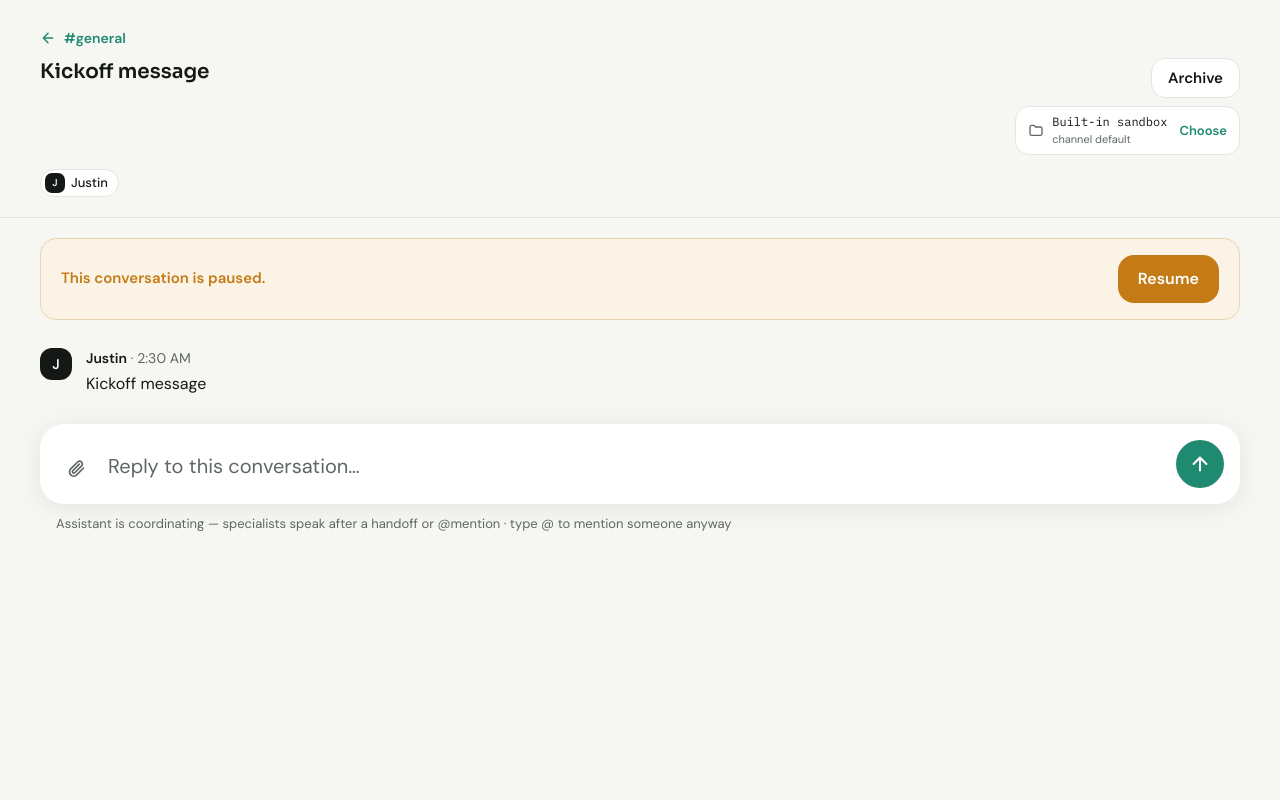
it: channels/[id]/rivulets/[rivuletId]/+page.svelte › shows the paused banner and resumes via rivulets.resume
The image size is (1280, 800).
Step 1. Click the button "Resume" → point(1168, 278), box [1118, 254, 1219, 302]
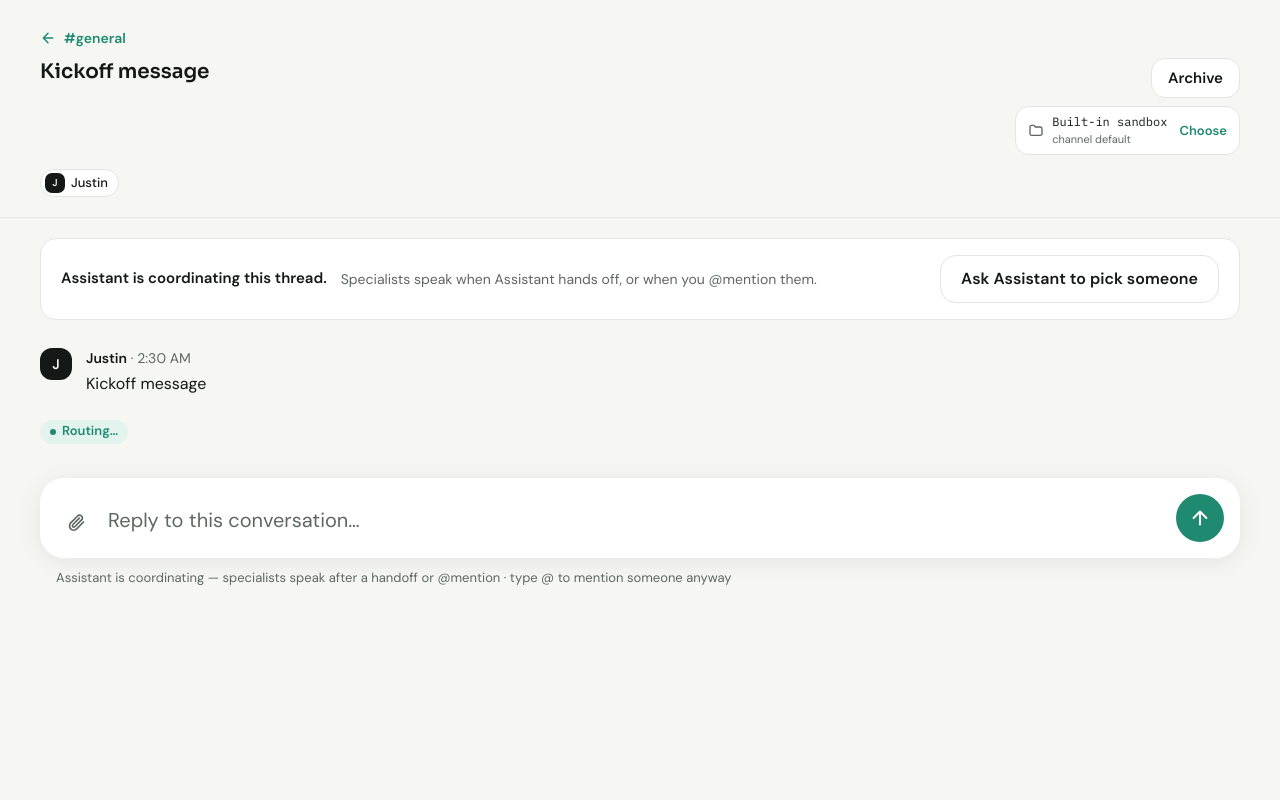
Result: the text "Routing…" is shown at [40, 420, 128, 444]
